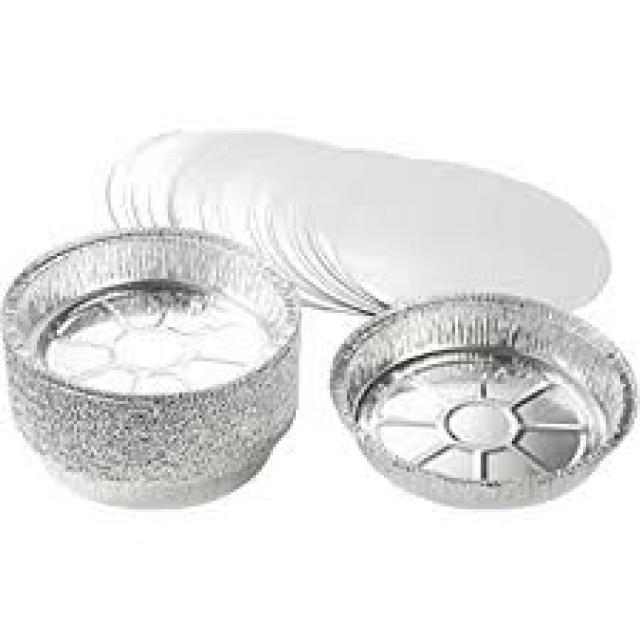metal: (3, 230, 296, 508), (333, 296, 637, 508)
